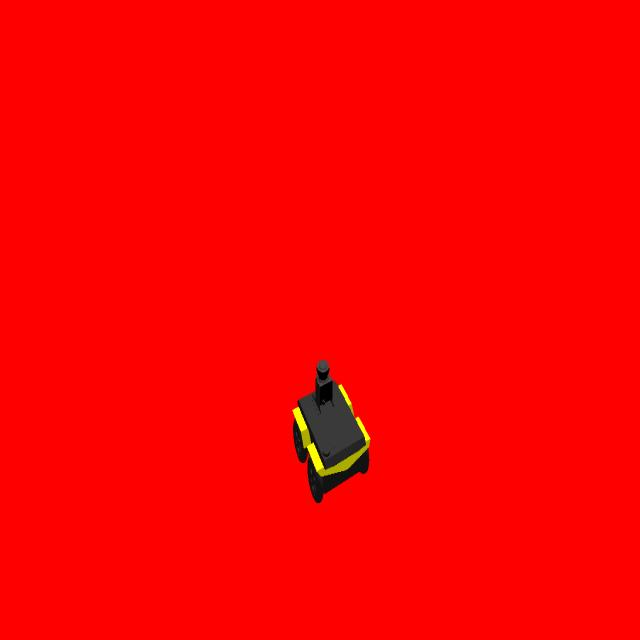jackal: (291, 358, 371, 507)
